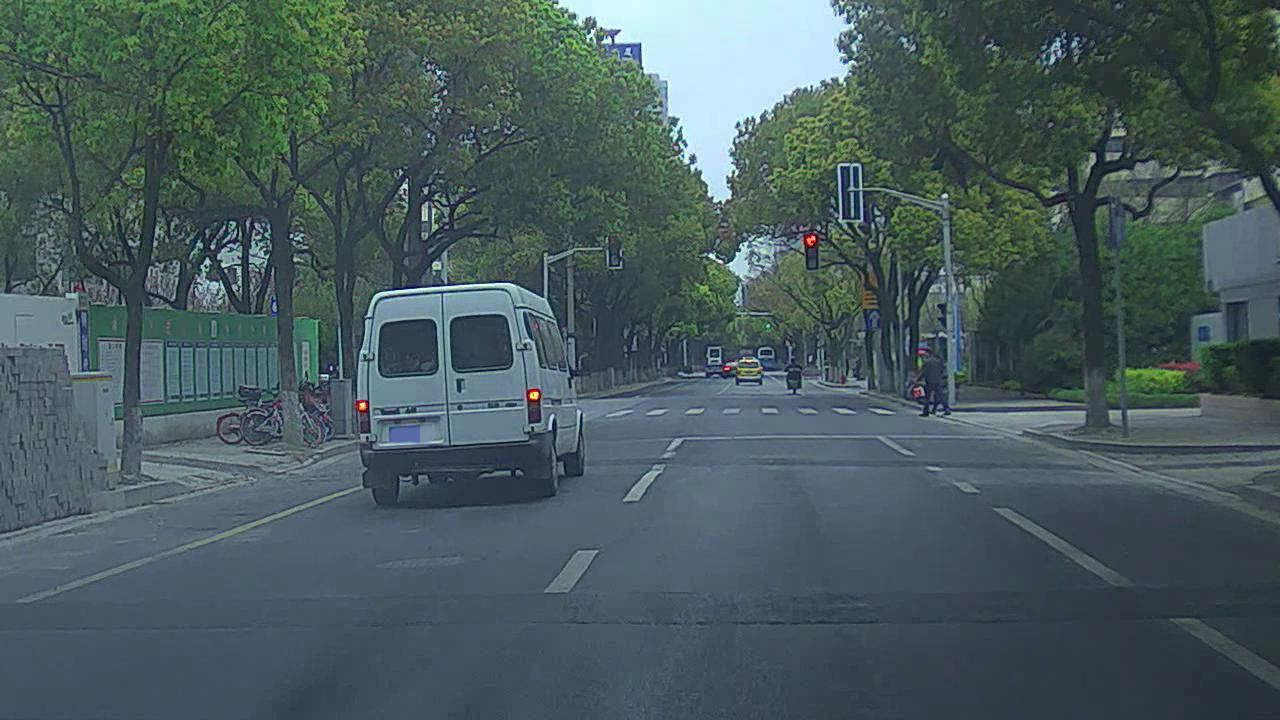traffic_light: (803, 232, 820, 268)
